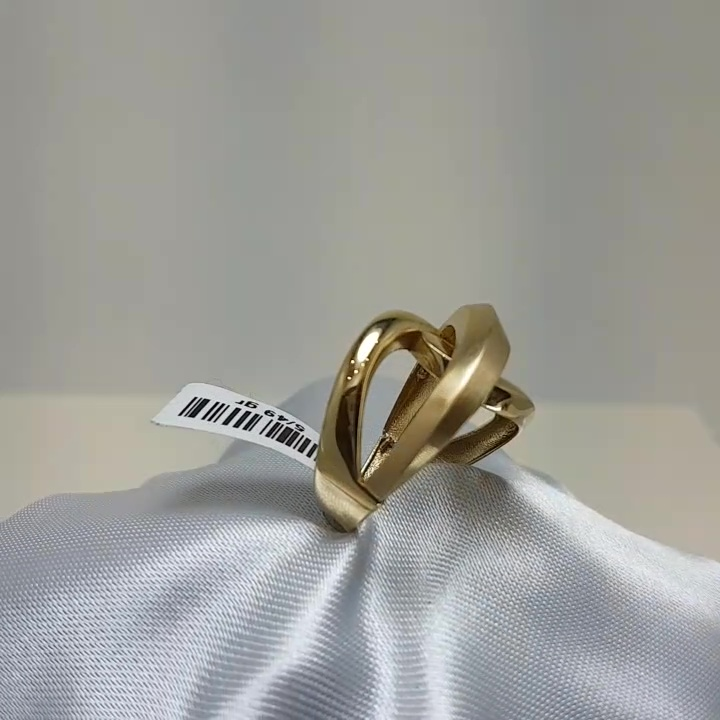Ring 3: (306, 288, 551, 549)
